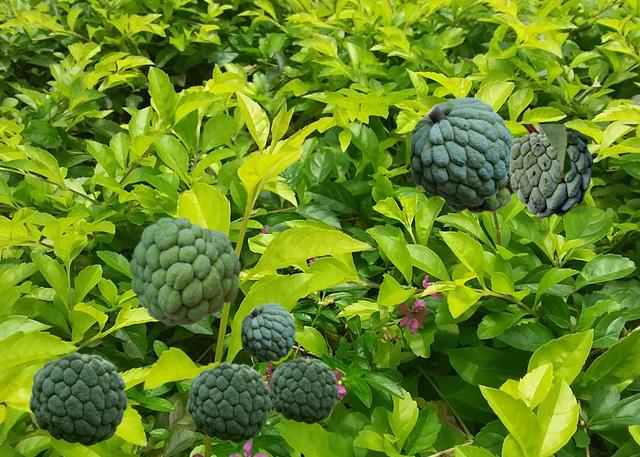atis: (509, 124, 638, 217), (129, 217, 239, 324), (410, 97, 510, 204), (29, 352, 126, 445), (187, 362, 270, 442), (443, 126, 514, 212), (269, 357, 337, 423), (241, 303, 294, 360)
